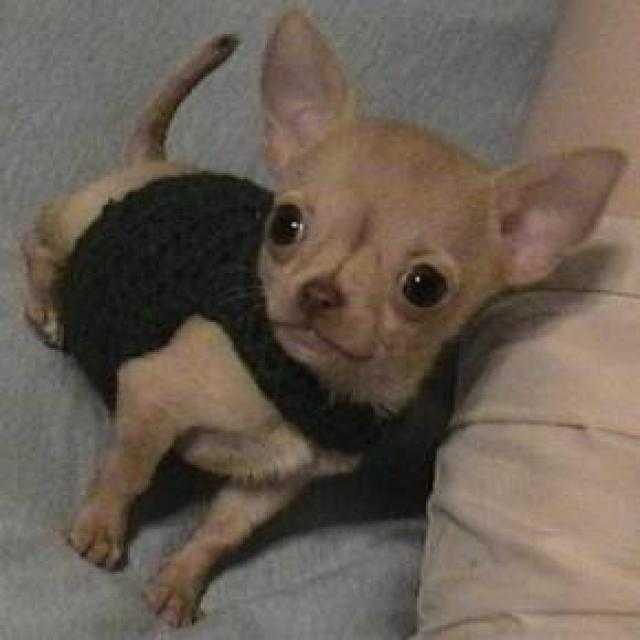dog-chihuahua: (9, 9, 636, 631)
